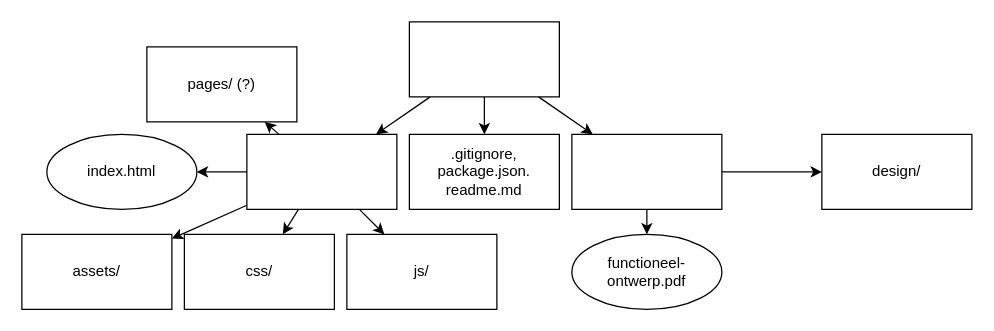
Image size: 994x331. Some labels were removed from this diagram. The centre of each missing label's shape, as x and y in pixels:
functioneel-ontwerp/: [646,171]
News-app/: [483,59]
src/: [321,171]
